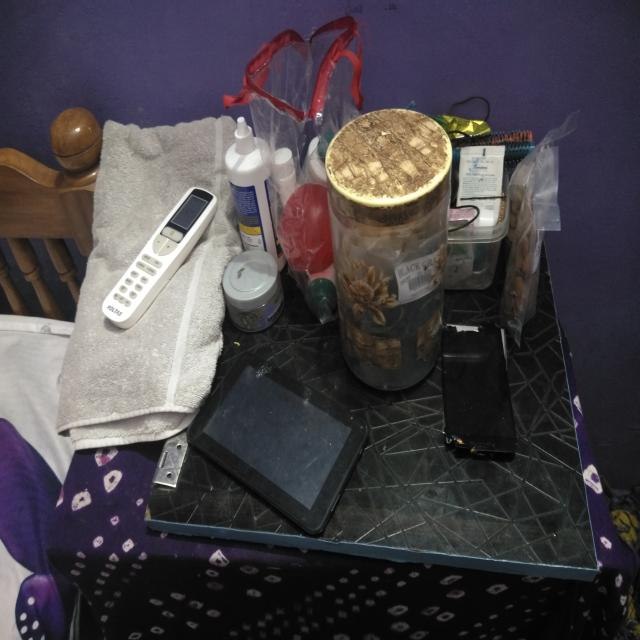remote: (95, 185, 217, 331)
